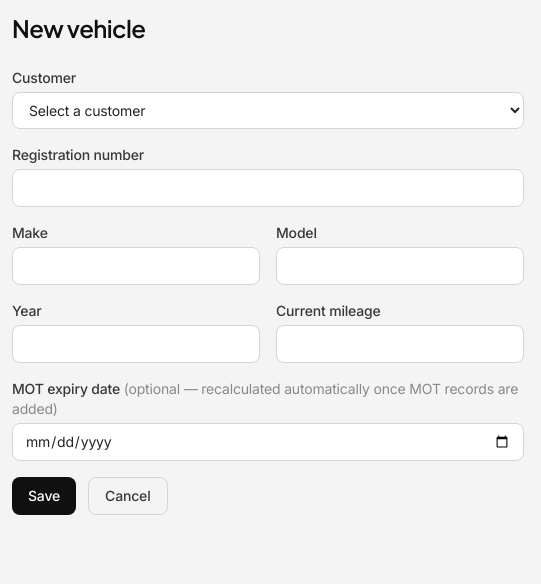
Test case: VehicleForm — submitting › surfaces a server failure as a form-level message
Select "Oliver Bennett" in the dropdown labelled "Customer" at x=268, y=110, box [12,92,524,129]
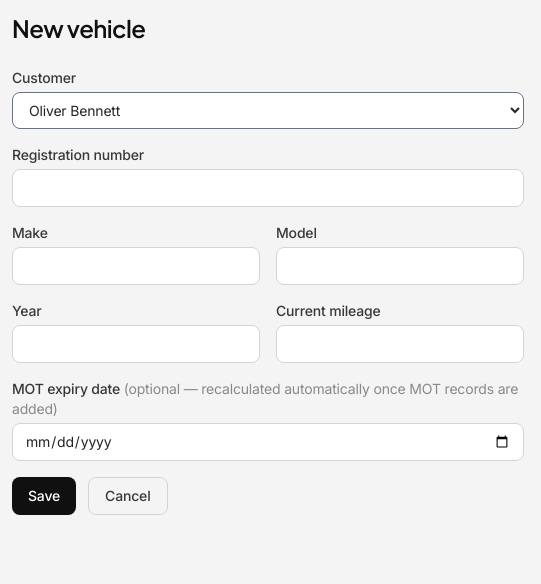
Type "OB08AUD" into the field labelled "Registration number" at x=268, y=188, box [12,169,524,207]
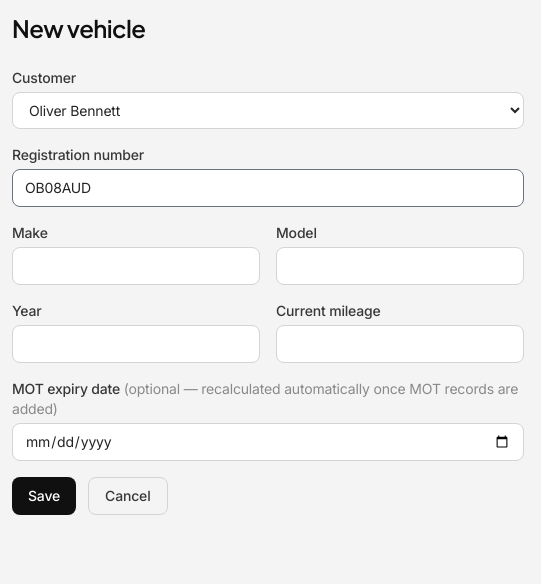
Click the button "Save" at x=44, y=496, box [12,477,76,515]
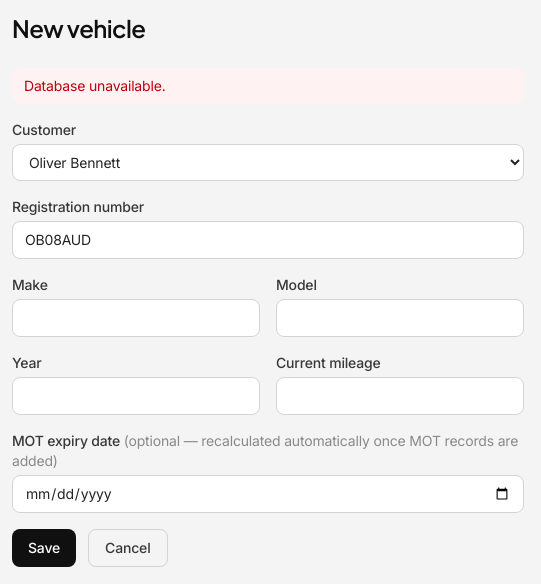
Expected: the text "Database unavailable." is shown, [12,68,524,104]
